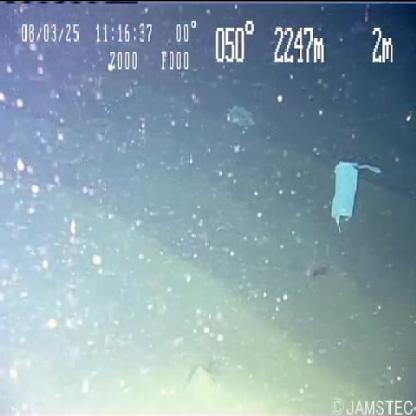Rác: (331, 163, 358, 227)
